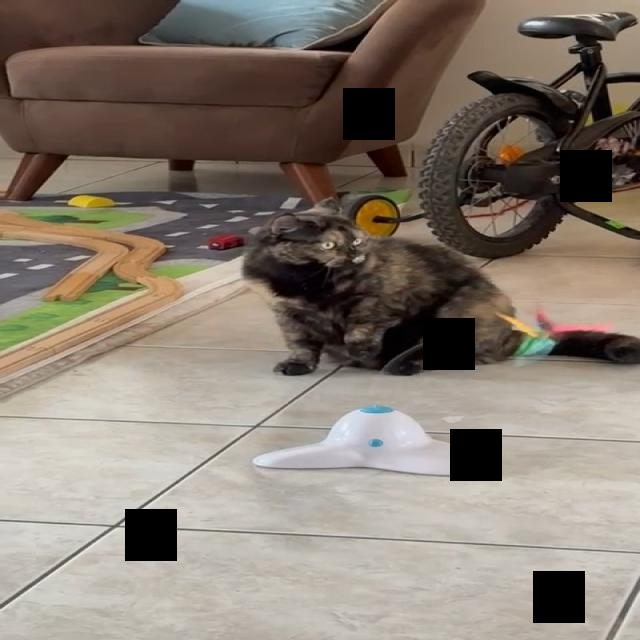authorized: (240, 195, 639, 376)
